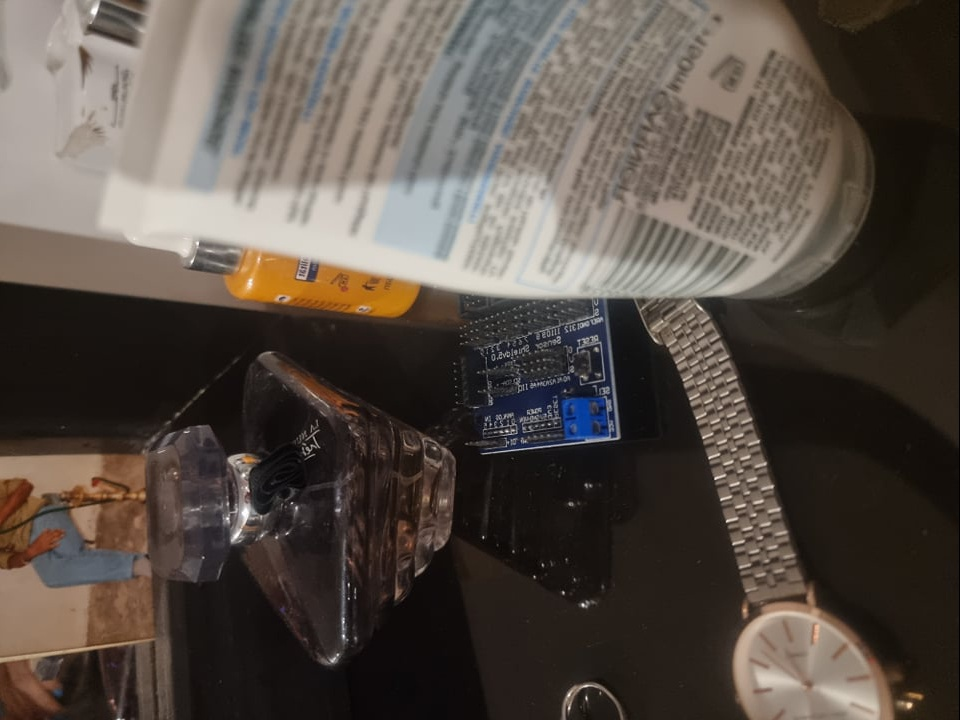5V EXPANSION: (450, 290, 627, 458)
